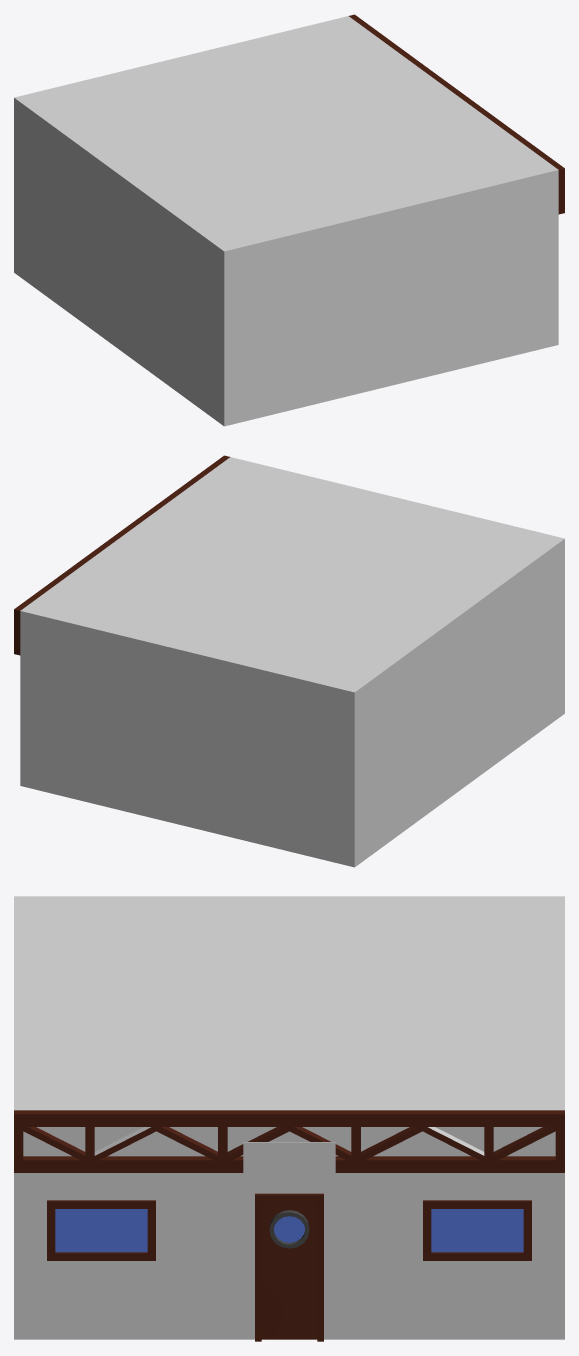
The model's file is pub.glb.
3 renders of one model, top to bottom at view 1: azimuth 30°, elevation 25°; view 2: azimuth 150°, elevation 25°; view 3: azimuth 270°, elevation 25°, orthographic. The views are drawn at different scales.
Parts seen in each view (by area): view 1: Pub; view 2: Pub; view 3: Pub.
Part boxes in pixels (x1,y1,x2,y2): Pub: [14, 14, 564, 426]; Pub: [14, 455, 564, 867]; Pub: [14, 896, 564, 1341].
Bounding box in the file's own units: 8.21 × 4 × 8.71.
